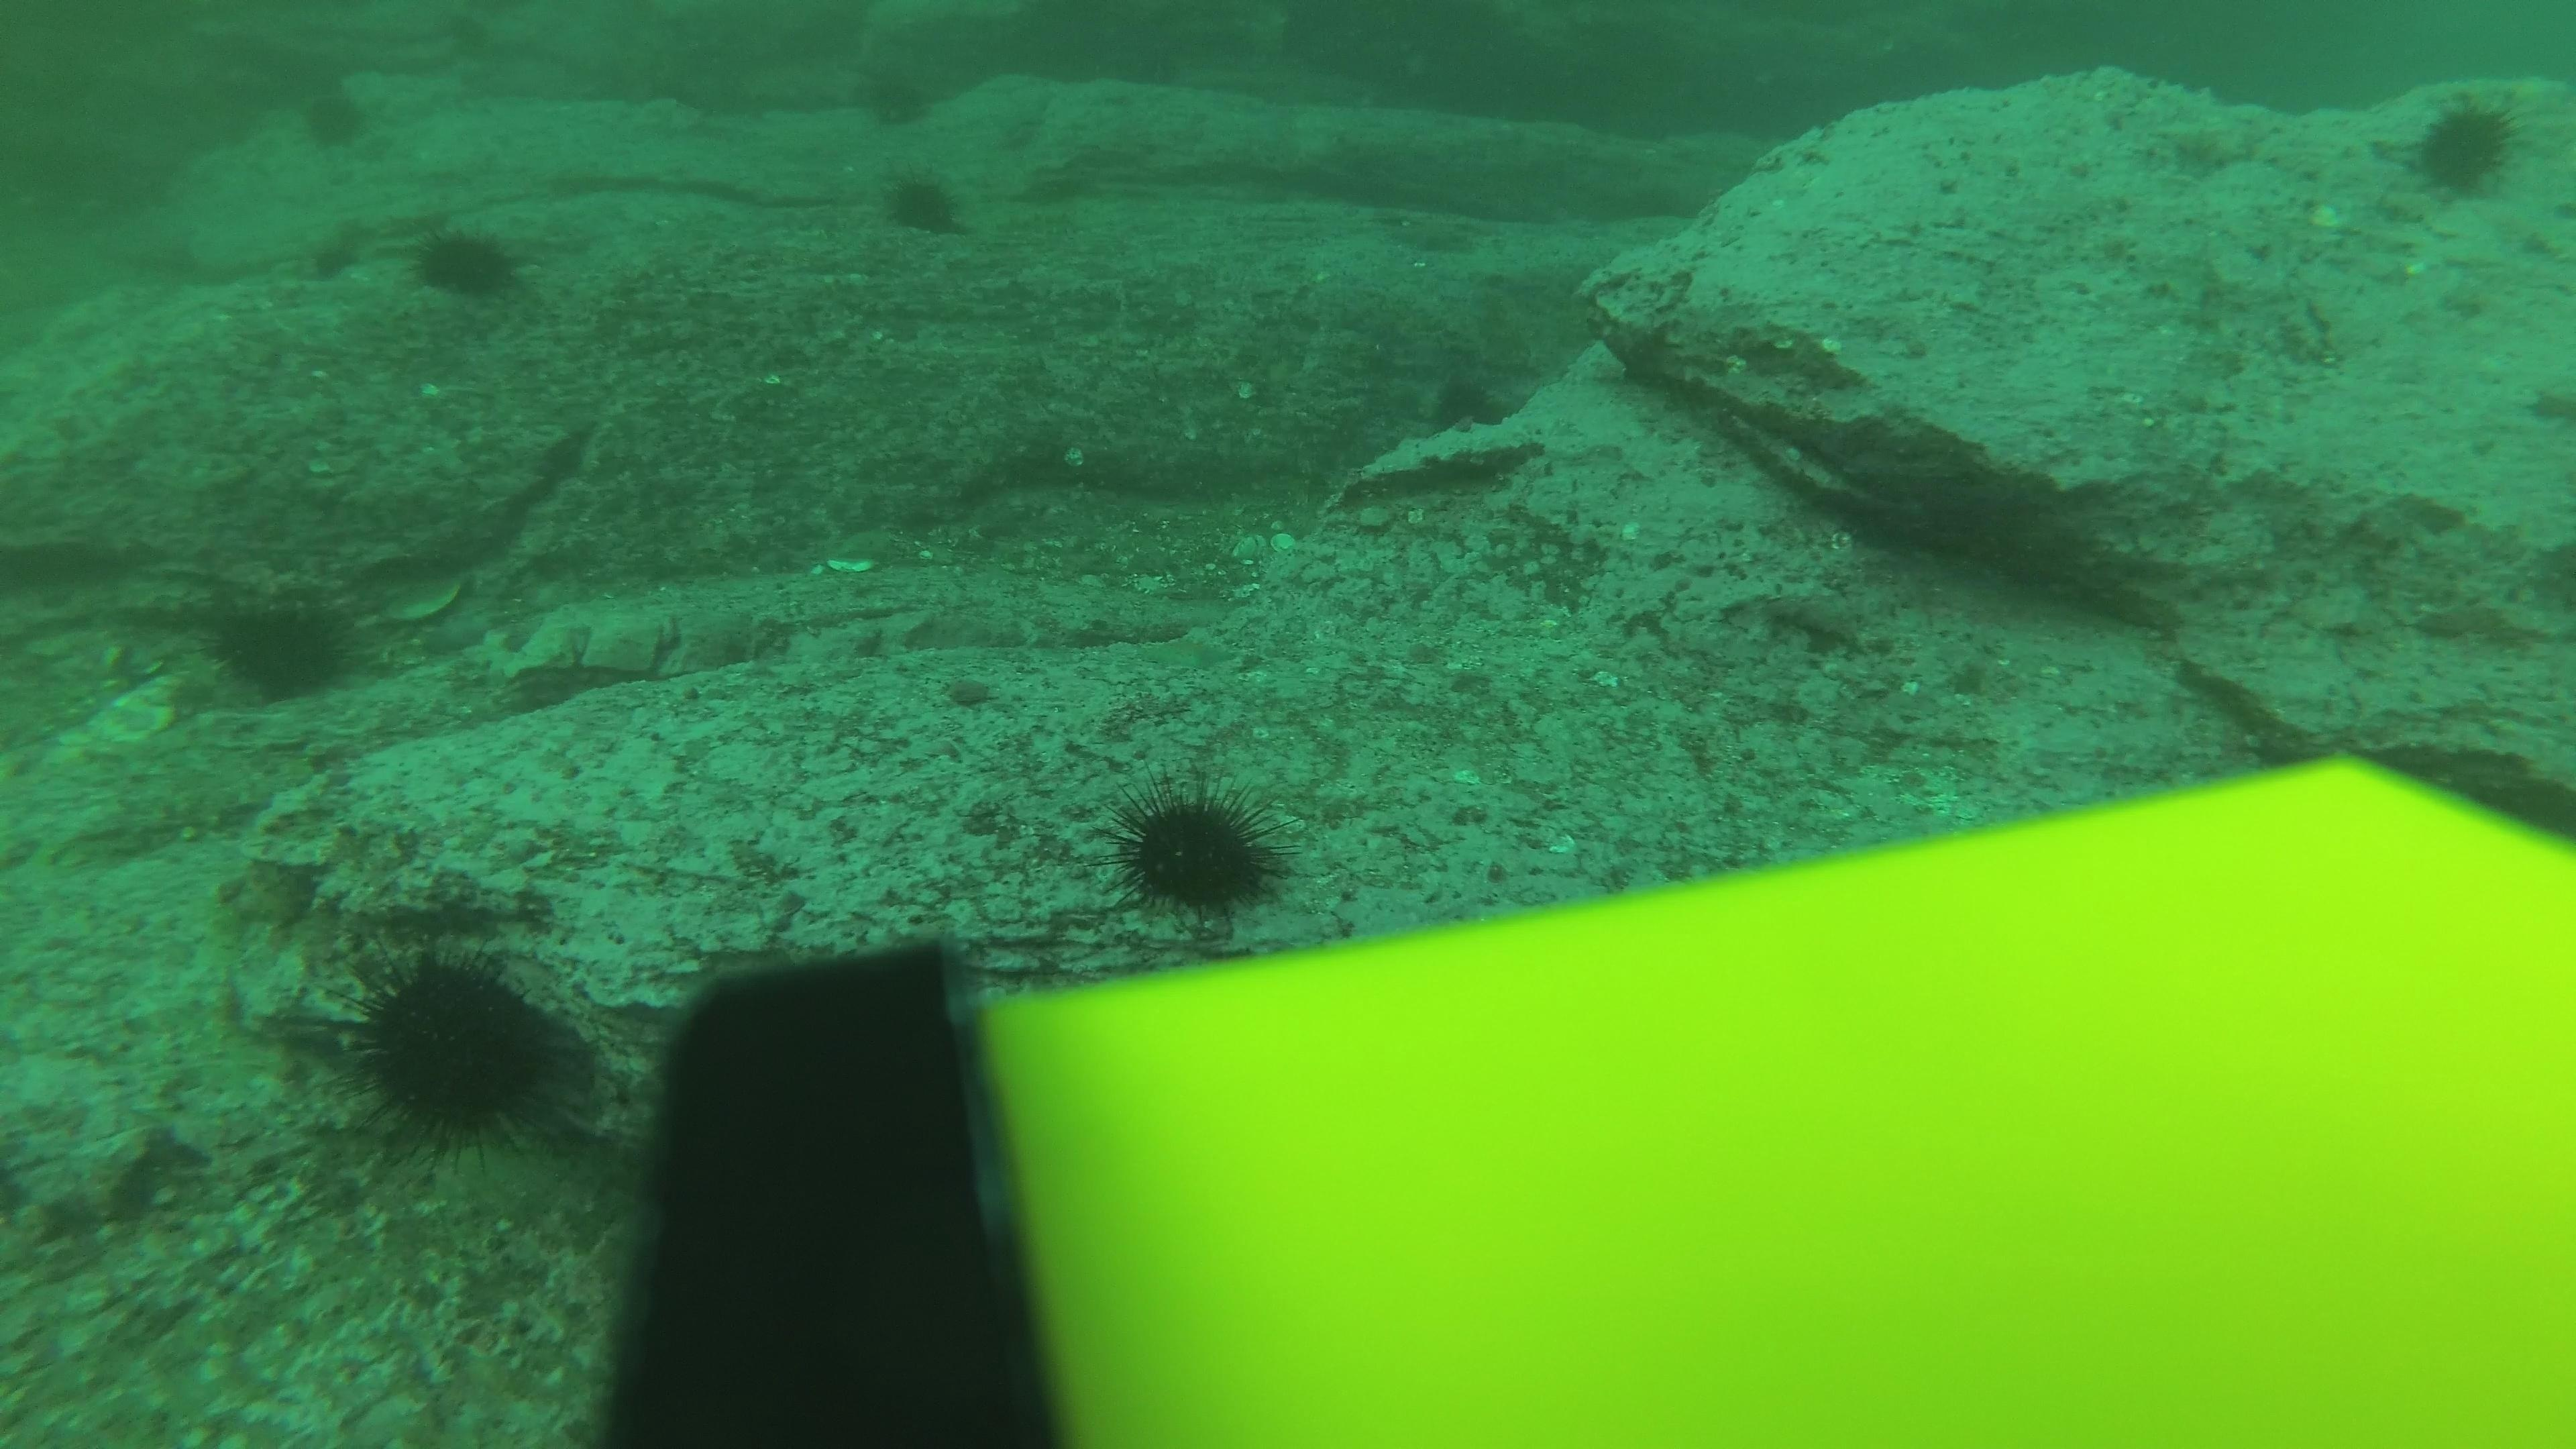echinus: (331, 936, 584, 1162), (1104, 775, 1292, 922), (200, 582, 364, 706), (2401, 90, 2526, 203), (405, 216, 527, 306), (853, 62, 948, 142), (878, 161, 973, 239), (290, 78, 377, 156)
